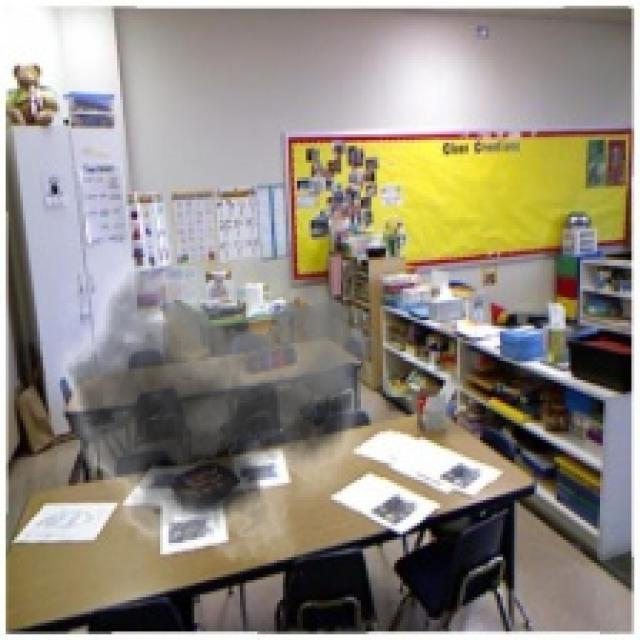smoke: (37, 197, 383, 583)
